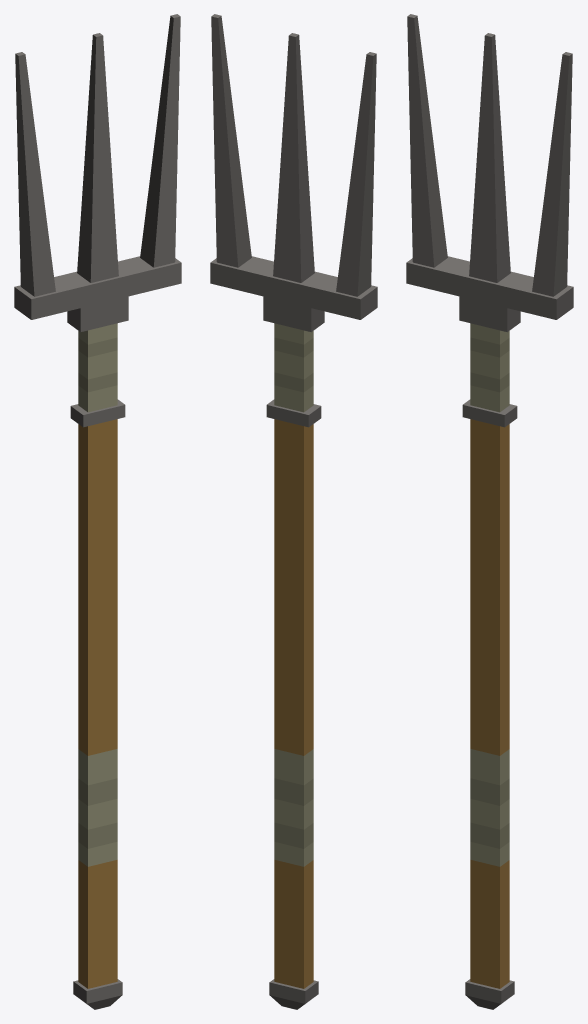
Rendered from Pitchfork.gltf.
3 renders of one model, left to right at view 1: azimuth 30°, elevation 25°; view 2: azimuth 150°, elevation 25°; view 3: azimuth 330°, elevation 25°, orthographic.
Parts seen in each view (by area): view 1: SF_Wep_Pitchfork_01; view 2: SF_Wep_Pitchfork_01; view 3: SF_Wep_Pitchfork_01.
Part boxes in pixels (box(x1,y1,x2,y2)): SF_Wep_Pitchfork_01: box(14, 14, 181, 1009); SF_Wep_Pitchfork_01: box(210, 14, 377, 1009); SF_Wep_Pitchfork_01: box(406, 14, 573, 1009).
Size of the model in its own units: 0.00682 by 0.039 by 0.00124.
Materials: 1 (1 with a texture image).
